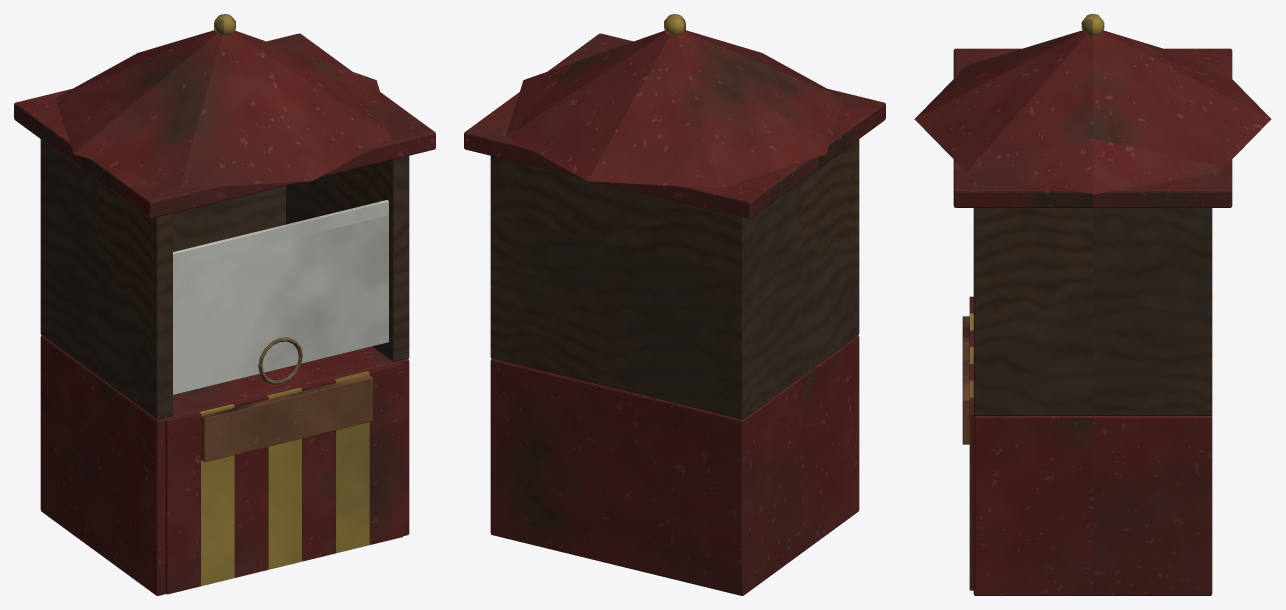
File: C05_ticket_booth.glb
3 views of the same model, side by side, from view 1: azimuth 30°, elevation 25°; view 2: azimuth 150°, elevation 25°; view 3: azimuth 270°, elevation 25° (orthographic). The views are drawn at different scales.
Parts seen in each view (by area): view 1: C05_ticket_booth; view 2: C05_ticket_booth; view 3: C05_ticket_booth.
Boxes of the visible parts, <box> form: C05_ticket_booth: <box>14,14,435,595</box>; C05_ticket_booth: <box>464,14,885,595</box>; C05_ticket_booth: <box>914,14,1271,595</box>.
Bounding box in the file's own units: 1.56 × 2.5 × 1.56.
6 materials, 6 textured.
